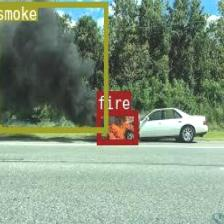fire: (96, 110, 137, 144)
smoke: (0, 0, 107, 131)
